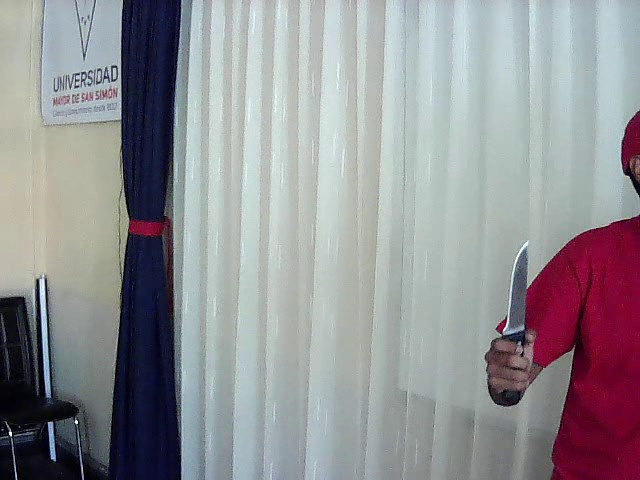cuchillo: (491, 224, 544, 375)
